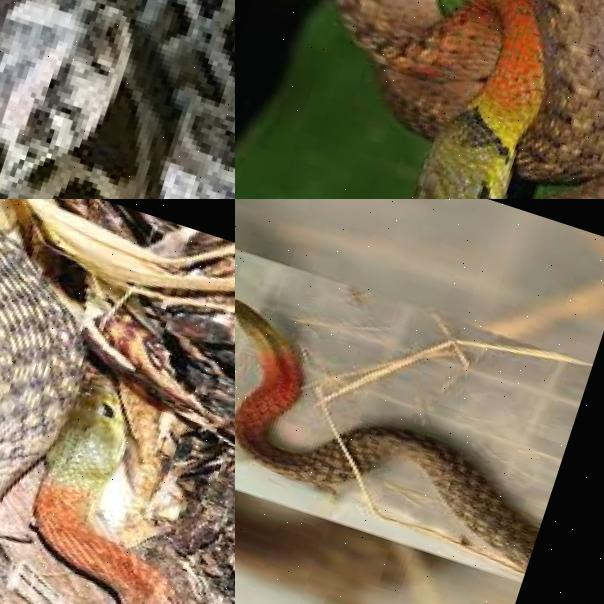2: (235, 278, 582, 574), (0, 199, 235, 604), (235, 0, 604, 199)
snake: (0, 0, 235, 199)
